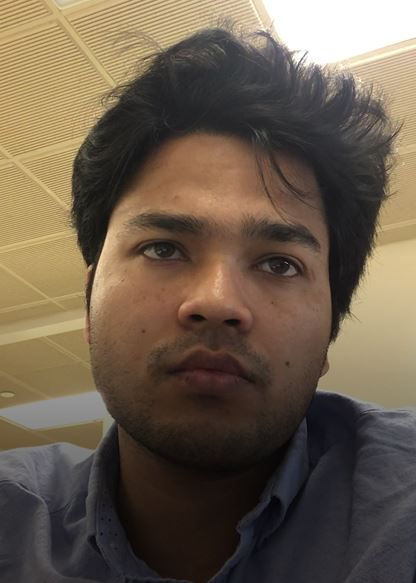Not Sleeping: (116, 221, 318, 293)
